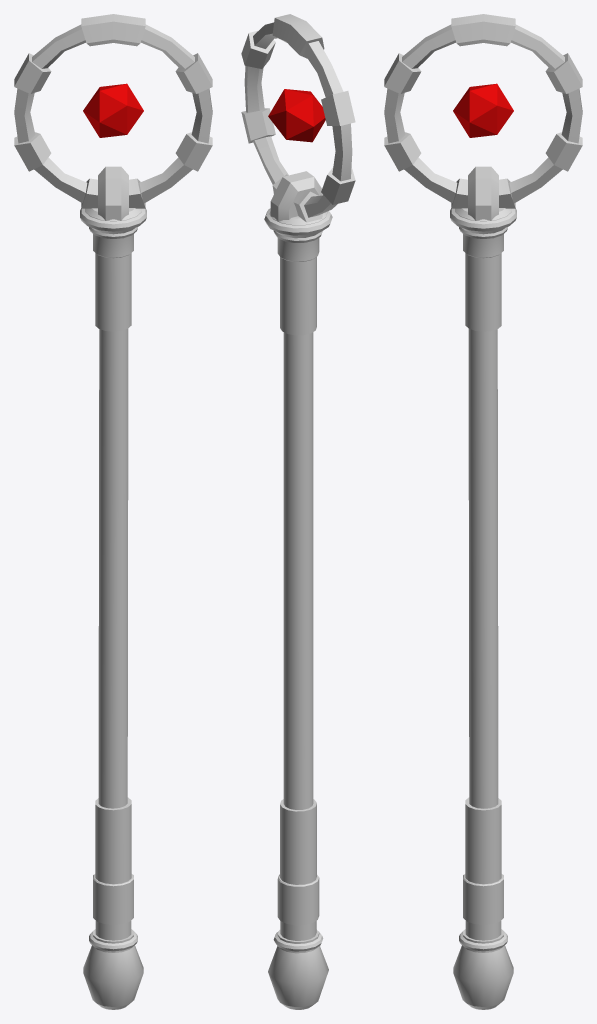
File: StaffRepair.fbx
3 views of the same model, side by side, from view 1: azimuth 90°, elevation 25°; view 2: azimuth 210°, elevation 25°; view 3: azimuth 270°, elevation 25° (orthographic).
Parts seen in each view (by area): view 1: Staff, Gem; view 2: Staff, Gem; view 3: Staff, Gem.
Part boxes in pixels (<box>): Staff: <box>14,14,212,1009</box>; Gem: <box>83,83,143,137</box>; Staff: <box>241,14,355,1009</box>; Gem: <box>268,89,325,142</box>; Staff: <box>384,14,582,1009</box>; Gem: <box>453,83,513,137</box>.
Size of the model in its own units: 3.3 by 52.07 by 9.5.
